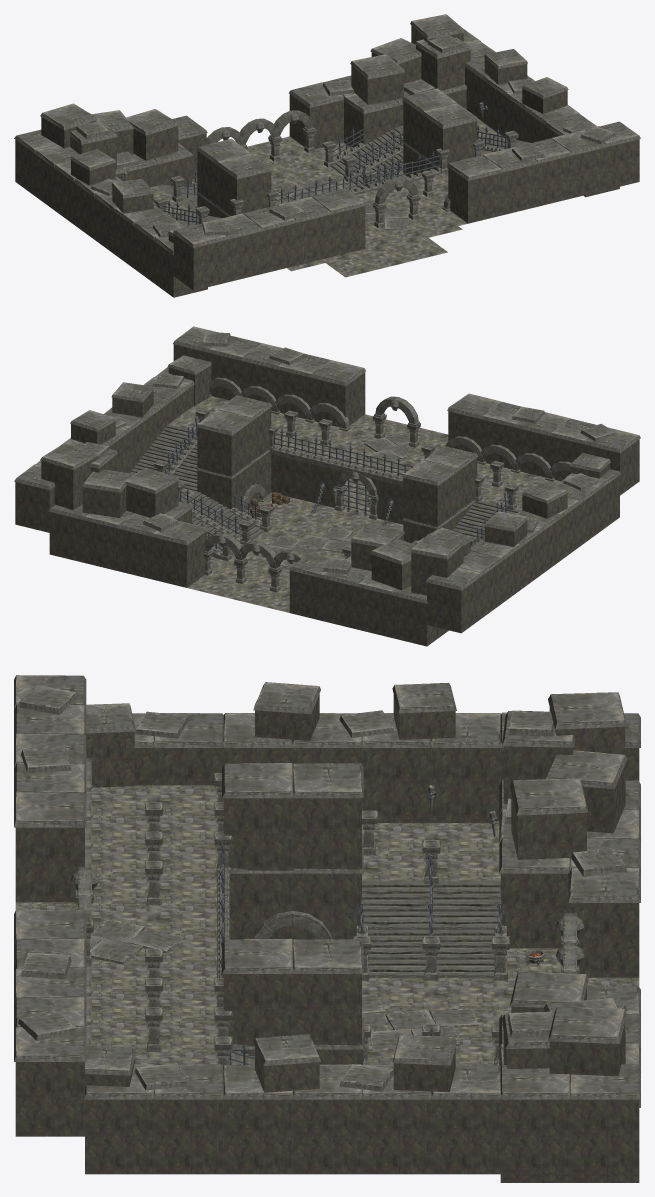
The model's file is room_02.obj.
The picture shows the model from 3 angles, top to bottom: view 1: azimuth 30°, elevation 25°; view 2: azimuth 150°, elevation 25°; view 3: azimuth 270°, elevation 25°; orthographic projection. The views are drawn at different scales.
Parts seen in each view (by area): view 1: room_02; view 2: room_02; view 3: room_02.
Part boxes in pixels (<box>): room_02: <box>14,14,640,297</box>; room_02: <box>14,326,640,646</box>; room_02: <box>14,675,640,1182</box>.
Bounding box in the file's own units: 130 × 26.83 × 90.45.
